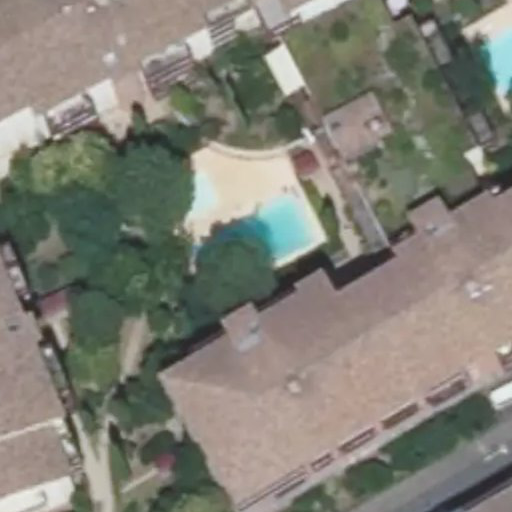pool: (176, 194, 325, 276), (471, 24, 512, 103)
